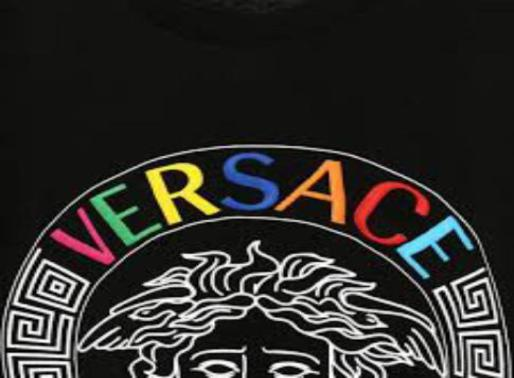VERSACE: (36, 130, 489, 292)
